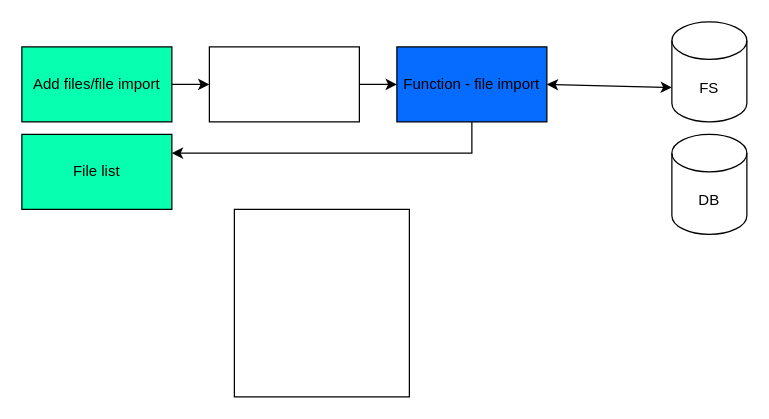
Image size: 769x419. Some labels were removed from this diagram. Each missing label, with the centre of its shape:
"Browser" goes at (283,84).
"Metadata form" goes at (321,302).
